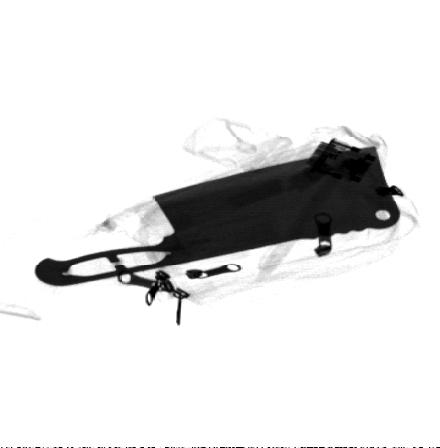Knife: (31, 145, 404, 288)
